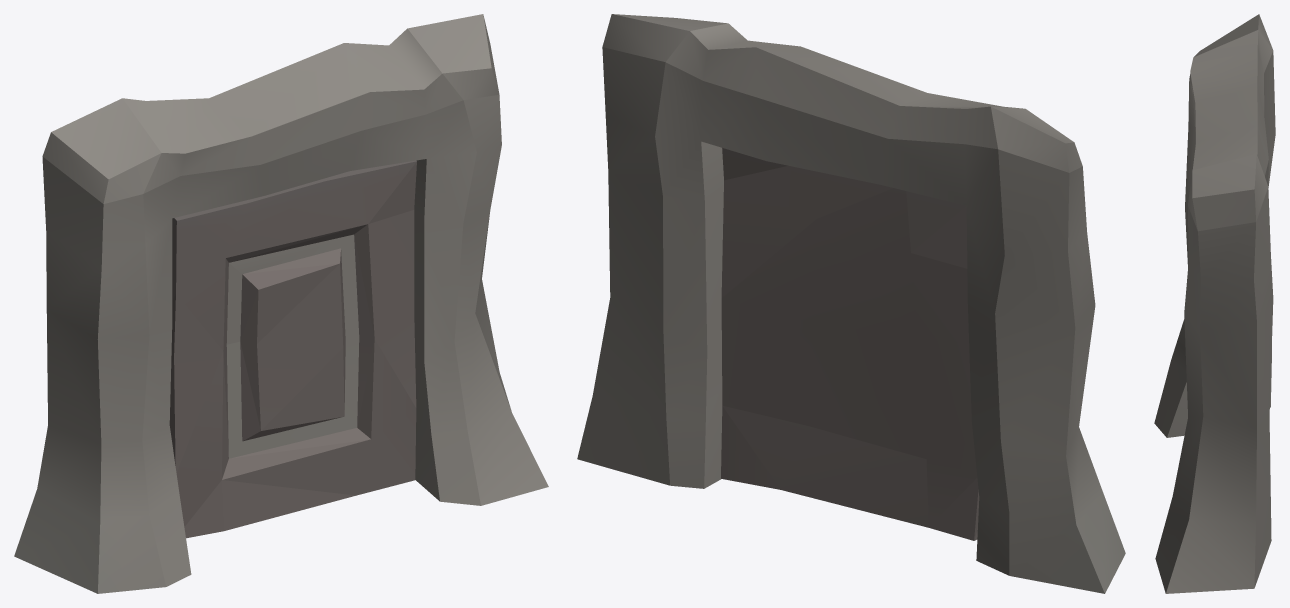
File: forestPathDoorBase.fbx
3 views of the same model, side by side, from view 1: azimuth 30°, elevation 25°; view 2: azimuth 150°, elevation 25°; view 3: azimuth 270°, elevation 25° (orthographic). The views are drawn at different scales.
Parts seen in each view (by area): view 1: forestPathDoorBase, singleDoor; view 2: forestPathDoorBase, singleDoor; view 3: forestPathDoorBase.
Boxes of the visible parts, x1=… form: forestPathDoorBase: x1=14, y1=14, x2=548, y2=593; singleDoor: x1=169, y1=160, x2=416, y2=538; forestPathDoorBase: x1=577, y1=14, x2=1125, y2=593; singleDoor: x1=721, y1=148, x2=979, y2=540; forestPathDoorBase: x1=1154, y1=14, x2=1275, y2=593.
Size of the model in its own units: 5.2 by 4.43 by 1.21.
Materials: 1 (1 with a texture image).
